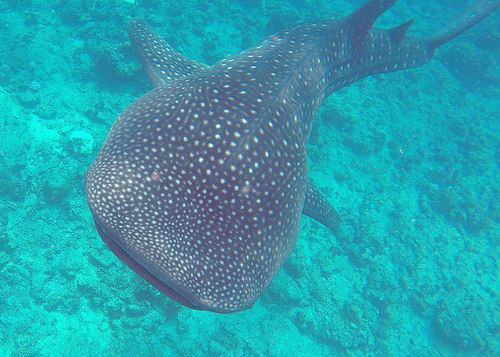shark: (65, 4, 493, 320)
